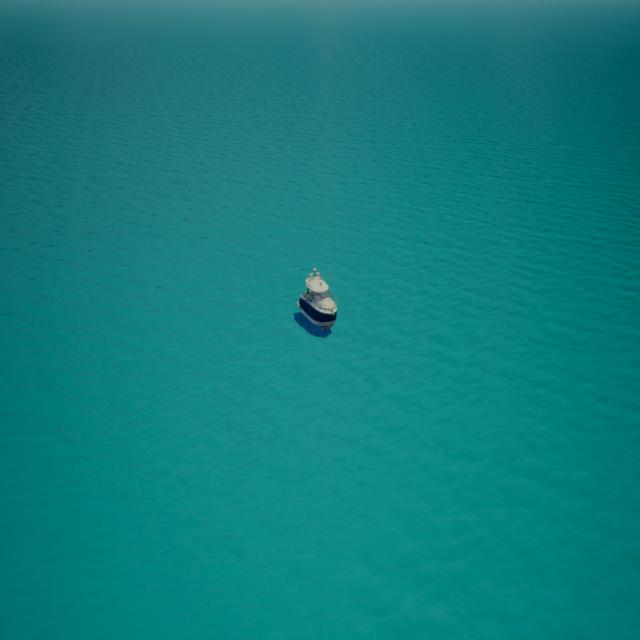ship: (291, 260, 347, 342)
